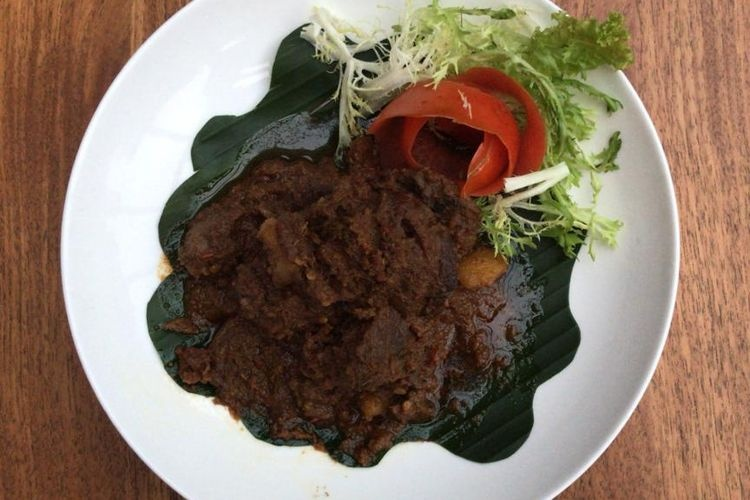rendang: (189, 152, 470, 422)
